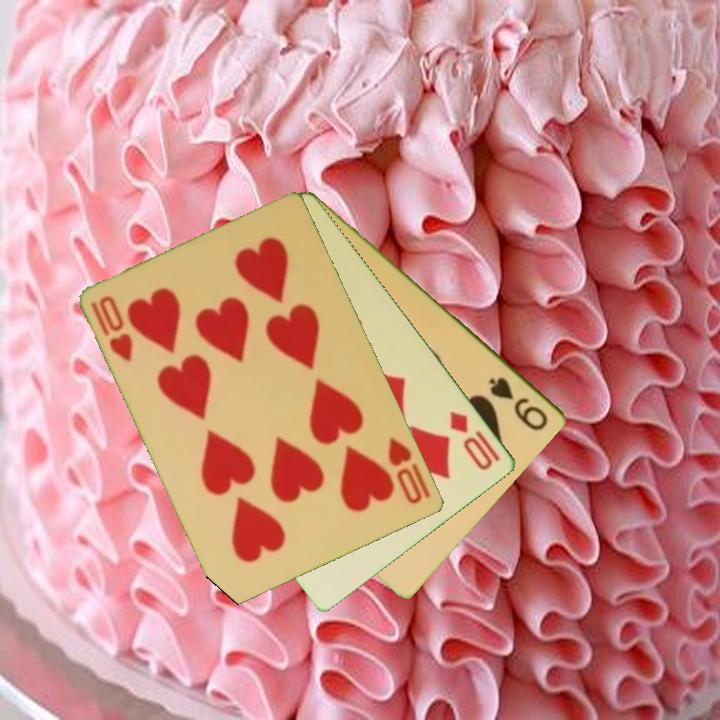10d: (446, 407, 504, 474)
10h: (385, 433, 434, 507), (88, 292, 137, 365)
9s: (485, 373, 552, 434)
